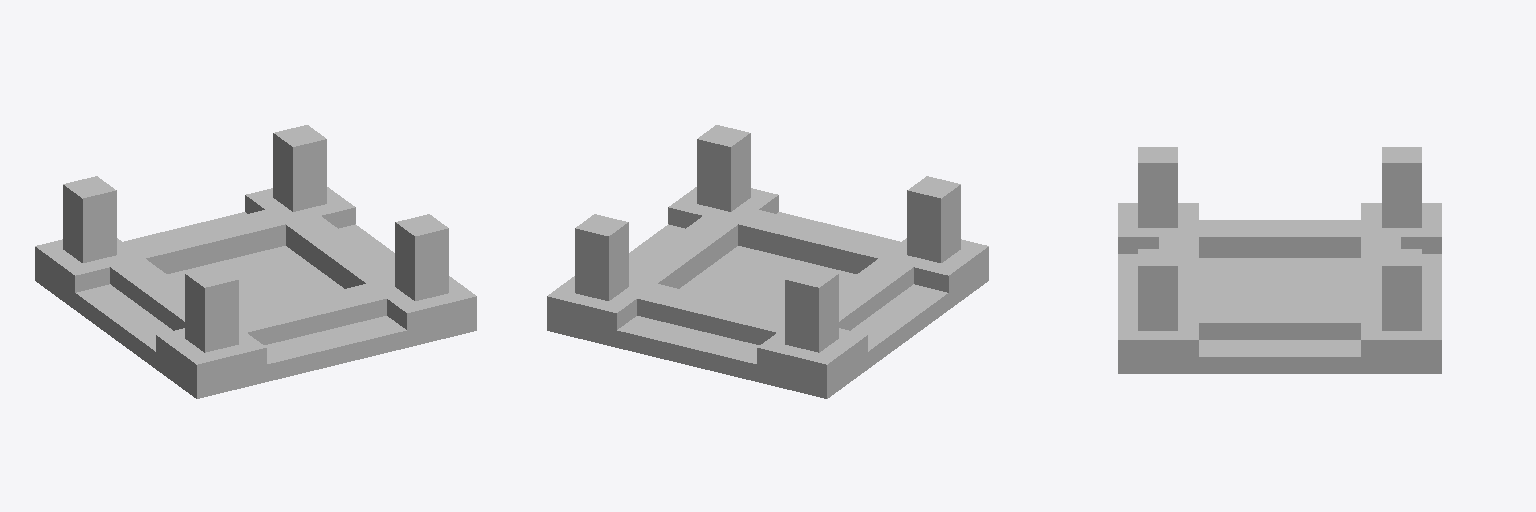
Rendered from dungeonHeartBase.obj.
The picture shows the model from 3 angles: view 1: azimuth 30°, elevation 25°; view 2: azimuth 150°, elevation 25°; view 3: azimuth 270°, elevation 25°; orthographic projection.
Bounding box in the file's own units: 3.8 × 1.29 × 3.8.